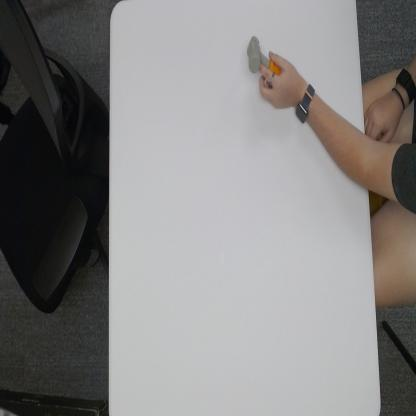Arm: (311, 95, 366, 188)
Hammer: (246, 34, 282, 78)
Hand: (260, 50, 298, 110)
